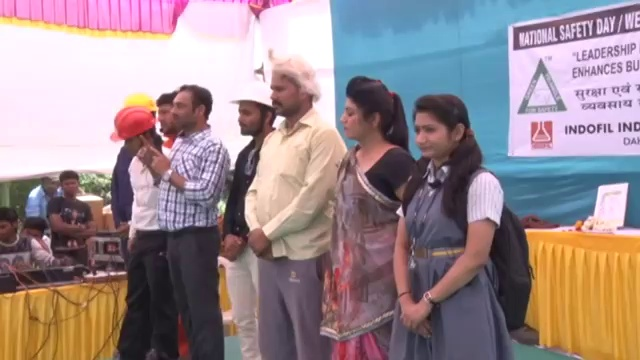helmet: (108, 105, 155, 145), (229, 79, 280, 109)
helmet_off: (408, 94, 477, 172), (341, 75, 401, 148), (262, 58, 325, 120), (152, 88, 215, 142), (156, 89, 182, 143), (21, 216, 51, 247), (0, 207, 22, 239), (57, 173, 80, 203), (40, 176, 58, 197)
helmet_on: (227, 81, 275, 142), (109, 103, 157, 163)
person: (393, 89, 531, 360), (238, 59, 350, 360), (326, 66, 420, 360), (148, 87, 231, 360), (218, 76, 279, 357), (109, 102, 173, 359), (46, 174, 93, 257), (0, 206, 59, 268), (25, 175, 59, 225)
